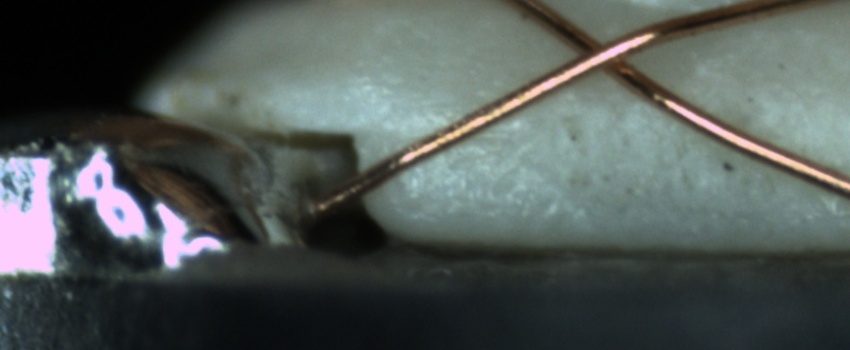CL: (549, 17, 653, 86)
DL: (381, 107, 521, 159)
